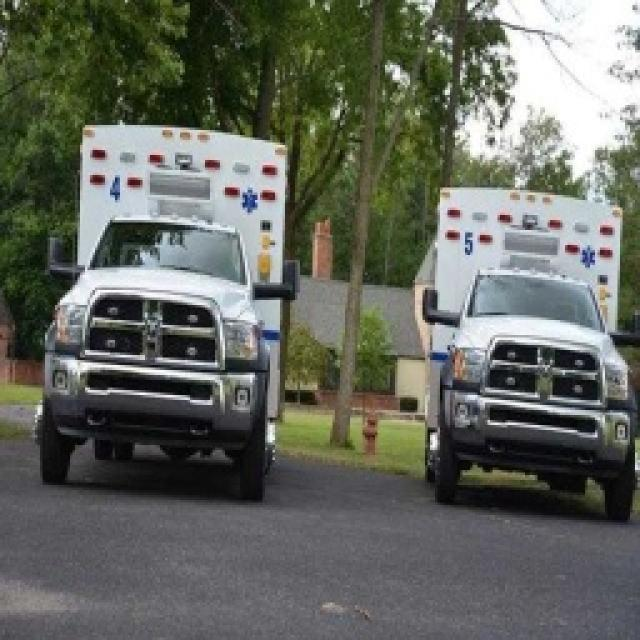emergency-vehicle: (34, 120, 302, 498), (412, 182, 636, 526)
